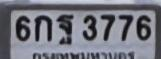3: (82, 14, 96, 40)
6: (136, 14, 150, 40), (15, 15, 29, 40)
7: (118, 14, 132, 40), (100, 14, 114, 40)
A01: (34, 14, 51, 41)
A16: (57, 14, 74, 45)
